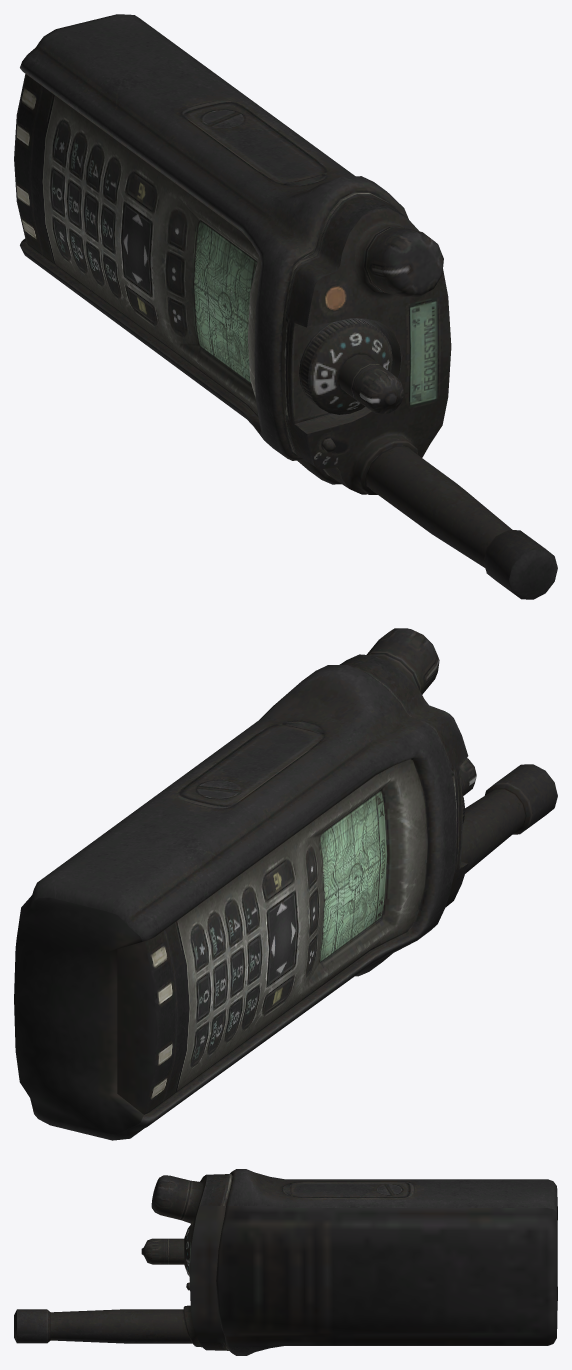
Rendered from t6_wpn_uav_radio_view_LOD0.obj.
3 views of the same model, one above another, from view 1: azimuth 30°, elevation 25°; view 2: azimuth 150°, elevation 25°; view 3: azimuth 270°, elevation 25° (orthographic). The views are drawn at different scales.
Parts seen in each view (by area): view 1: mtl_t6_wpn_uav_radio; view 2: mtl_t6_wpn_uav_radio; view 3: mtl_t6_wpn_uav_radio.
Boxes of the visible parts, bbox=[...] form: mtl_t6_wpn_uav_radio: bbox=[14, 14, 557, 599]; mtl_t6_wpn_uav_radio: bbox=[14, 628, 557, 1140]; mtl_t6_wpn_uav_radio: bbox=[14, 1169, 557, 1355].
Size of the model in its own units: 5.6 by 9.84 by 26.85.
